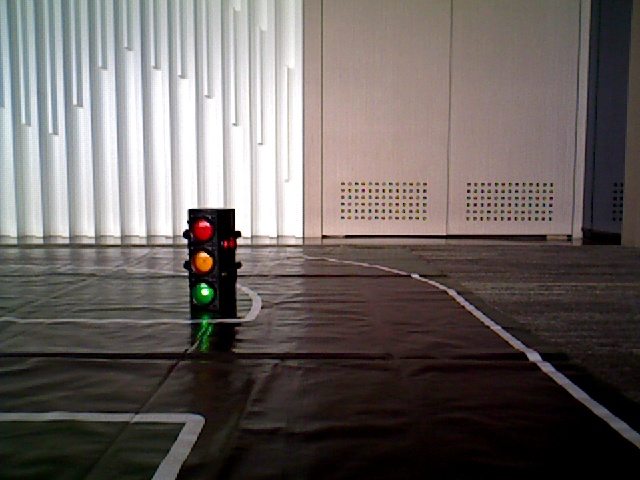green: (190, 215, 216, 303)
